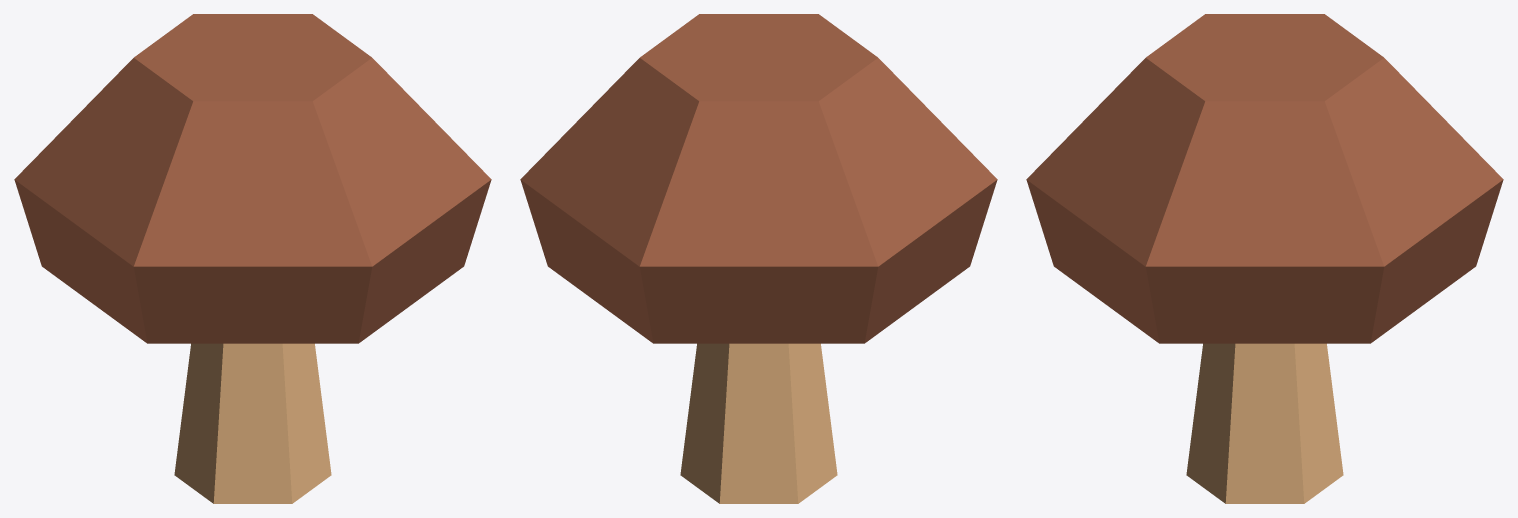
Rendered from mushroom.fbx.
The picture shows the model from 3 angles, left to right: view 1: azimuth 30°, elevation 25°; view 2: azimuth 150°, elevation 25°; view 3: azimuth 270°, elevation 25°; orthographic projection.
Visible parts, largest first — view 1: mushroom; view 2: mushroom; view 3: mushroom.
Boxes of the visible parts, <box> form: mushroom: <box>14,14,491,503</box>; mushroom: <box>520,14,997,503</box>; mushroom: <box>1026,14,1503,503</box>.
Size of the model in its own units: 1.25 by 1.39 by 1.44.
